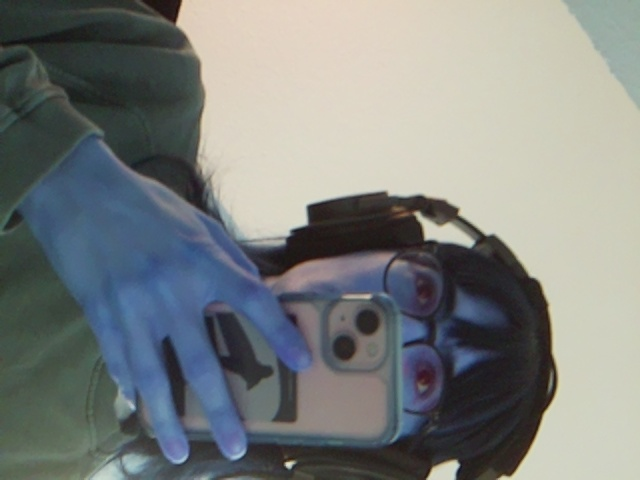cell phone: (126, 295, 397, 442)
